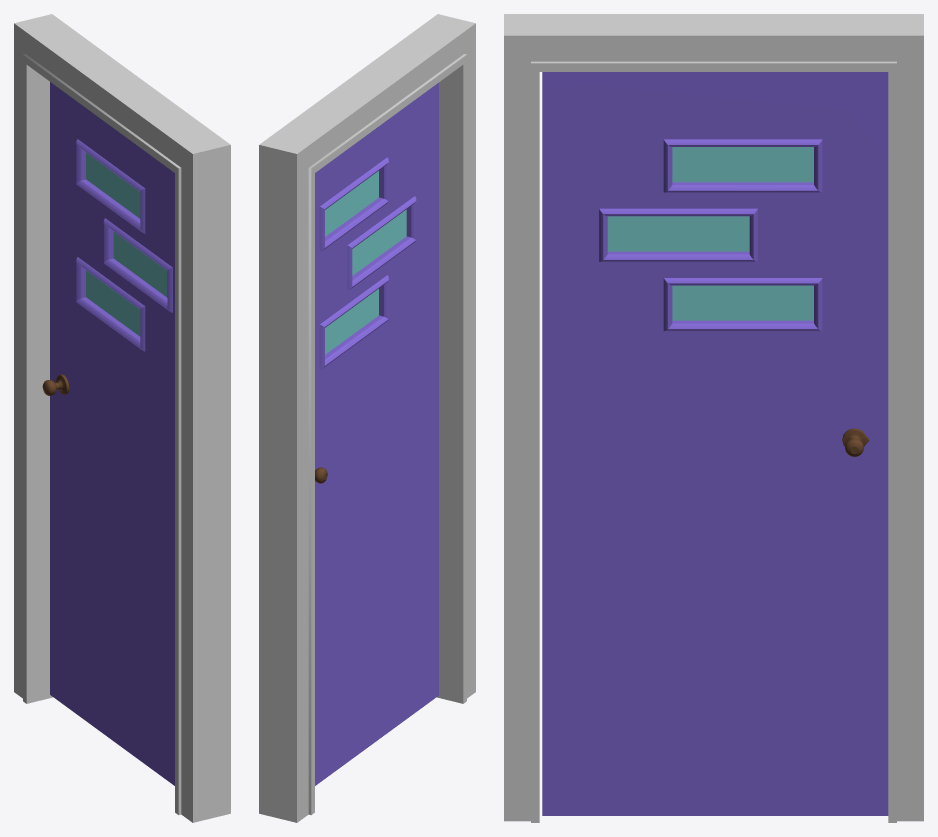
Rendered from kapı dış dönen.fbx.
3 renders of one model, left to right at view 1: azimuth 30°, elevation 25°; view 2: azimuth 150°, elevation 25°; view 3: azimuth 270°, elevation 25°, orthographic. The views are drawn at different scales.
Visible parts, largest first — view 1: doorFront_A_01, Door_low.002; view 2: doorFront_A_01, Door_low.002; view 3: doorFront_A_01, Door_low.002.
Boxes of the visible parts, <box> form: doorFront_A_01: <box>42,82,174,785</box>; Door_low.002: <box>14,14,230,822</box>; doorFront_A_01: <box>315,82,438,785</box>; Door_low.002: <box>259,14,475,822</box>; doorFront_A_01: <box>542,72,888,815</box>; Door_low.002: <box>504,14,923,822</box>.
Size of the model in its own units: 21.15 by 232 by 113.
